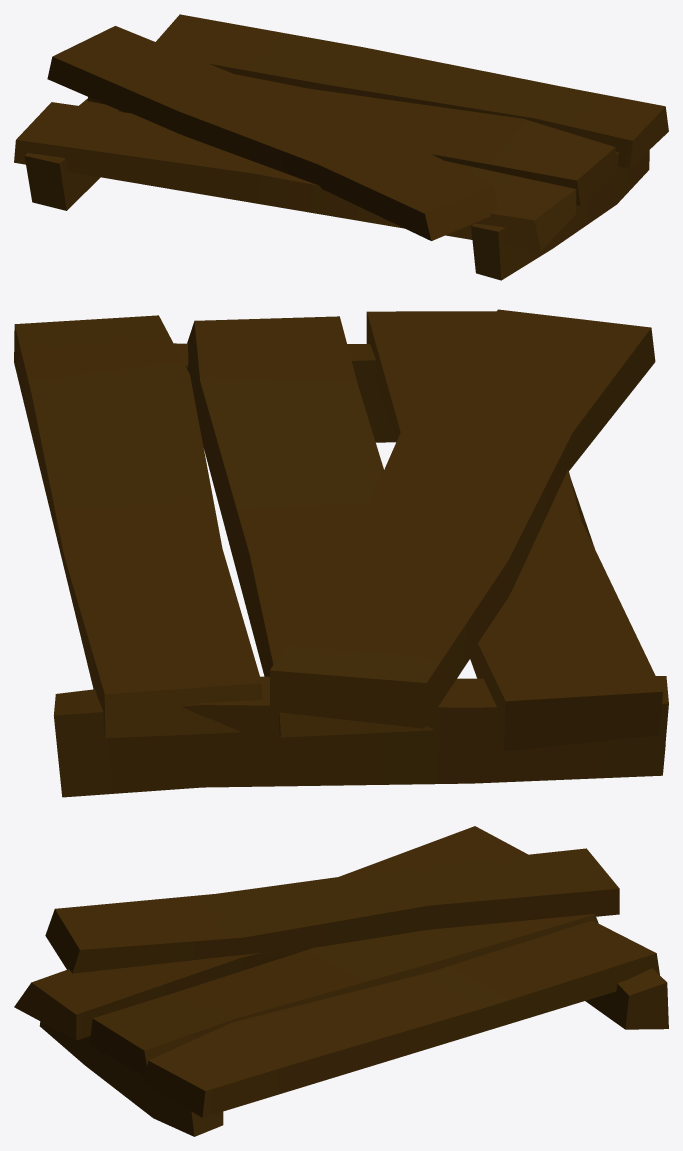
The model's file is Wood_Corner.fbx.
The picture shows the model from 3 angles, top to bottom: view 1: azimuth 30°, elevation 25°; view 2: azimuth 150°, elevation 25°; view 3: azimuth 270°, elevation 25°; orthographic projection. The views are drawn at different scales.
Parts seen in each view (by area): view 1: polySurface138, polySurface135, polySurface134, polySurface139, polySurface137, polySurface136; view 2: polySurface138, polySurface135, polySurface139, polySurface134, polySurface136, polySurface137; view 3: polySurface135, polySurface138, polySurface139, polySurface134, polySurface137, polySurface136.
Part boxes in pixels (x1,y1,x2,y2): polySurface138: (47, 26, 498, 240); polySurface135: (156, 14, 668, 168); polySurface134: (14, 102, 576, 251); polySurface139: (87, 74, 618, 205); polySurface137: (471, 150, 649, 280); polySurface136: (24, 99, 122, 210); polySurface138: (270, 309, 655, 728); polySurface135: (14, 315, 262, 738); polySurface139: (187, 316, 434, 737); polySurface134: (366, 311, 663, 751); polySurface136: (53, 676, 668, 797); polySurface137: (173, 343, 396, 442); polySurface135: (143, 920, 659, 1117); polySurface138: (45, 848, 619, 973); polySurface139: (89, 914, 598, 1076); polySurface134: (14, 826, 527, 1040); polySurface137: (39, 1021, 223, 1136); polySurface136: (585, 968, 668, 1029).
Size of the model in its own units: 13.38 by 2.15 by 13.88.
